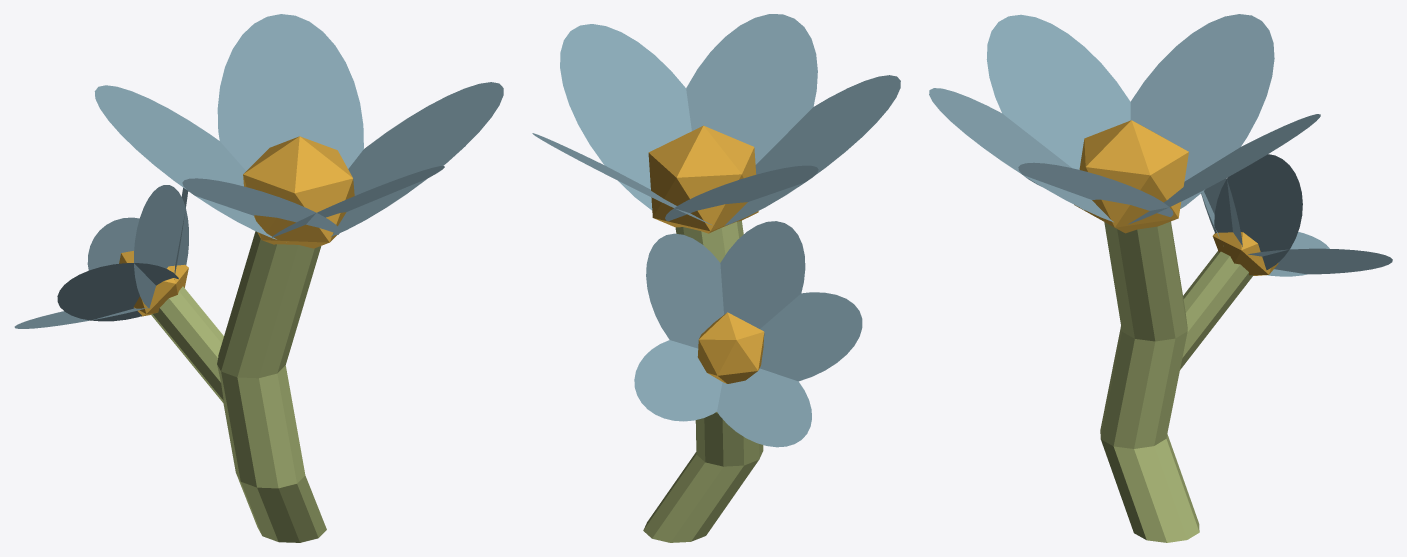
The model's file is BlueFlower.fbx.
3 renders of one model, left to right at view 1: azimuth 30°, elevation 25°; view 2: azimuth 150°, elevation 25°; view 3: azimuth 270°, elevation 25°, orthographic. The views are drawn at different scales.
Parts seen in each view (by area): view 1: BlueFlower; view 2: BlueFlower; view 3: BlueFlower.
Boxes of the visible parts, <box> form: BlueFlower: <box>14,14,503,542</box>; BlueFlower: <box>532,14,900,542</box>; BlueFlower: <box>929,14,1392,542</box>.
Size of the model in its own units: 13.6 by 15.53 by 14.89.
